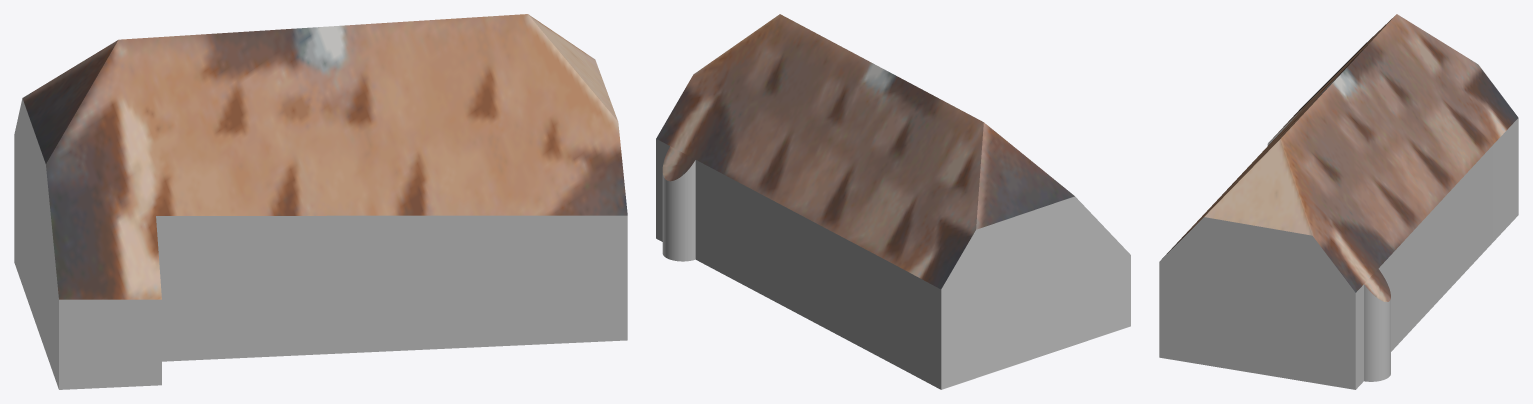
The model's file is DEBW_0010007TxeC.gltf.
The picture shows the model from 3 angles, left to right: view 1: azimuth 30°, elevation 25°; view 2: azimuth 150°, elevation 25°; view 3: azimuth 270°, elevation 25°; orthographic projection. The views are drawn at different scales.
Parts seen in each view (by area): view 1: Z_UP; view 2: Z_UP; view 3: Z_UP.
Boxes of the visible parts, x1,y1,x2,y2 form: Z_UP: (14,14,627,389); Z_UP: (656,14,1130,389); Z_UP: (1159,14,1518,389).
Size of the model in its own units: 35.11 by 16.33 by 25.22.
2 materials, 1 textured.
